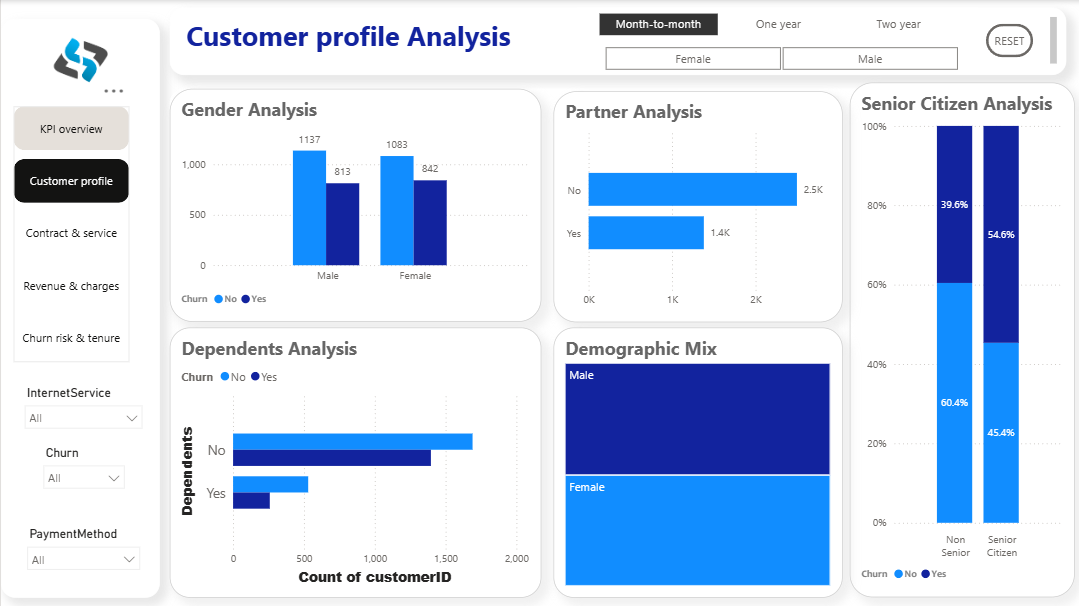

Layout of this report page (visuals, bound fields, positions):
{"tool":"powerbi","page":{"name":" Customer profile","canvas":[1280,720],"ordinal":1},"visuals":[{"type":"textbox","box":[0,22.2,188,685.3],"z":0},{"type":"textbox","box":[199.8,8.9,1061.2,79.9],"z":1000},{"type":"textbox","box":[199.8,105.1,1061.2,131.7],"z":2000},{"type":"image","box":[35.5,28.1,116.9,79.9],"z":3000},{"type":"pageNavigator","box":[14.9,126.4,137,303],"z":4000},{"type":"clusteredColumnChart","title":"Gender Analysis","fields":{"Category":["Telco_Customer_Churn_Dataset  (2).gender"],"Y":["CountNonNull(Telco_Customer_Churn_Dataset  (2).customerID)"],"Series":["Telco_Customer_Churn_Dataset  (2).Churn"]},"box":[199.5,105.3,440,276.4],"z":5000},{"type":"hundredPercentStackedColumnChart","title":"Senior Citizen Analysis","fields":{"Category":["Telco_Customer_Churn_Dataset  (2).Senior Citizen Status"],"Y":["CountNonNull(Telco_Customer_Churn_Dataset  (2).customerID)"],"Series":["Telco_Customer_Churn_Dataset  (2).Churn"]},"box":[1005.1,97.9,266.5,609.8],"z":6000},{"type":"clusteredBarChart","title":" Partner Analysis","fields":{"Category":["Telco_Customer_Churn_Dataset  (2).Partner"],"Y":["CountNonNull(Telco_Customer_Churn_Dataset  (2).customerID)"]},"box":[654.4,107.8,342.1,273.9],"z":7000},{"type":"slicer","fields":{"Values":["Telco_Customer_Churn_Dataset  (2).Contract"]},"box":[681.6,8.7,474.7,39.7],"z":8000},{"type":"clusteredBarChart","title":"Dependents Analysis","fields":{"Category":["Telco_Customer_Churn_Dataset  (2).Dependents"],"Y":["CountNonNull(Telco_Customer_Churn_Dataset  (2).customerID)"],"Series":["Telco_Customer_Churn_Dataset  (2).Churn"]},"box":[199.5,387.9,440,319.8],"z":9000},{"type":"treemap","title":"Demographic Mix","fields":{"Group":["Telco_Customer_Churn_Dataset  (2).gender"],"Values":["CountNonNull(Telco_Customer_Churn_Dataset  (2).customerID)"]},"box":[654,388,342,320],"z":10000},{"type":"slicer","fields":{"Values":["Telco_Customer_Churn_Dataset  (2).Churn"]},"box":[39.7,521.8,116.5,79.3],"z":11000},{"type":"slicer","fields":{"Values":["Telco_Customer_Churn_Dataset  (2).gender"]},"box":[689.1,49.6,467.2,38.4],"z":12000},{"type":"slicer","fields":{"Values":["Telco_Customer_Churn_Dataset  (2).InternetService"]},"box":[17.4,451.1,159.9,70.6],"z":13000},{"type":"slicer","fields":{"Values":["Telco_Customer_Churn_Dataset  (2).PaymentMethod"]},"box":[21.1,618.4,153.7,70.6],"z":14000},{"type":"actionButton","box":[1166.2,28.5,55.8,39.7],"z":15000}]}

Visuals, with their boxes on the page's 1280x720 design canvas (x1, y1, x2, y2). These are canvas units, not pixel positions in the 1079x606 screenshot, which may show the page scaled, cropped or inside an application window:
textbox: {"left": 0, "top": 22, "right": 188, "bottom": 708}
textbox: {"left": 200, "top": 9, "right": 1261, "bottom": 89}
textbox: {"left": 200, "top": 105, "right": 1261, "bottom": 237}
image: {"left": 36, "top": 28, "right": 152, "bottom": 108}
pageNavigator: {"left": 15, "top": 126, "right": 152, "bottom": 429}
"Gender Analysis" clusteredColumnChart: {"left": 200, "top": 105, "right": 640, "bottom": 382}
"Senior Citizen Analysis" hundredPercentStackedColumnChart: {"left": 1005, "top": 98, "right": 1272, "bottom": 708}
" Partner Analysis" clusteredBarChart: {"left": 654, "top": 108, "right": 996, "bottom": 382}
slicer - Telco_Customer_Churn_Dataset  (2).Contract: {"left": 682, "top": 9, "right": 1156, "bottom": 48}
"Dependents Analysis" clusteredBarChart: {"left": 200, "top": 388, "right": 640, "bottom": 708}
"Demographic Mix" treemap: {"left": 654, "top": 388, "right": 996, "bottom": 708}
slicer - Telco_Customer_Churn_Dataset  (2).Churn: {"left": 40, "top": 522, "right": 156, "bottom": 601}
slicer - Telco_Customer_Churn_Dataset  (2).gender: {"left": 689, "top": 50, "right": 1156, "bottom": 88}
slicer - Telco_Customer_Churn_Dataset  (2).InternetService: {"left": 17, "top": 451, "right": 177, "bottom": 522}
slicer - Telco_Customer_Churn_Dataset  (2).PaymentMethod: {"left": 21, "top": 618, "right": 175, "bottom": 689}
actionButton: {"left": 1166, "top": 28, "right": 1222, "bottom": 68}
